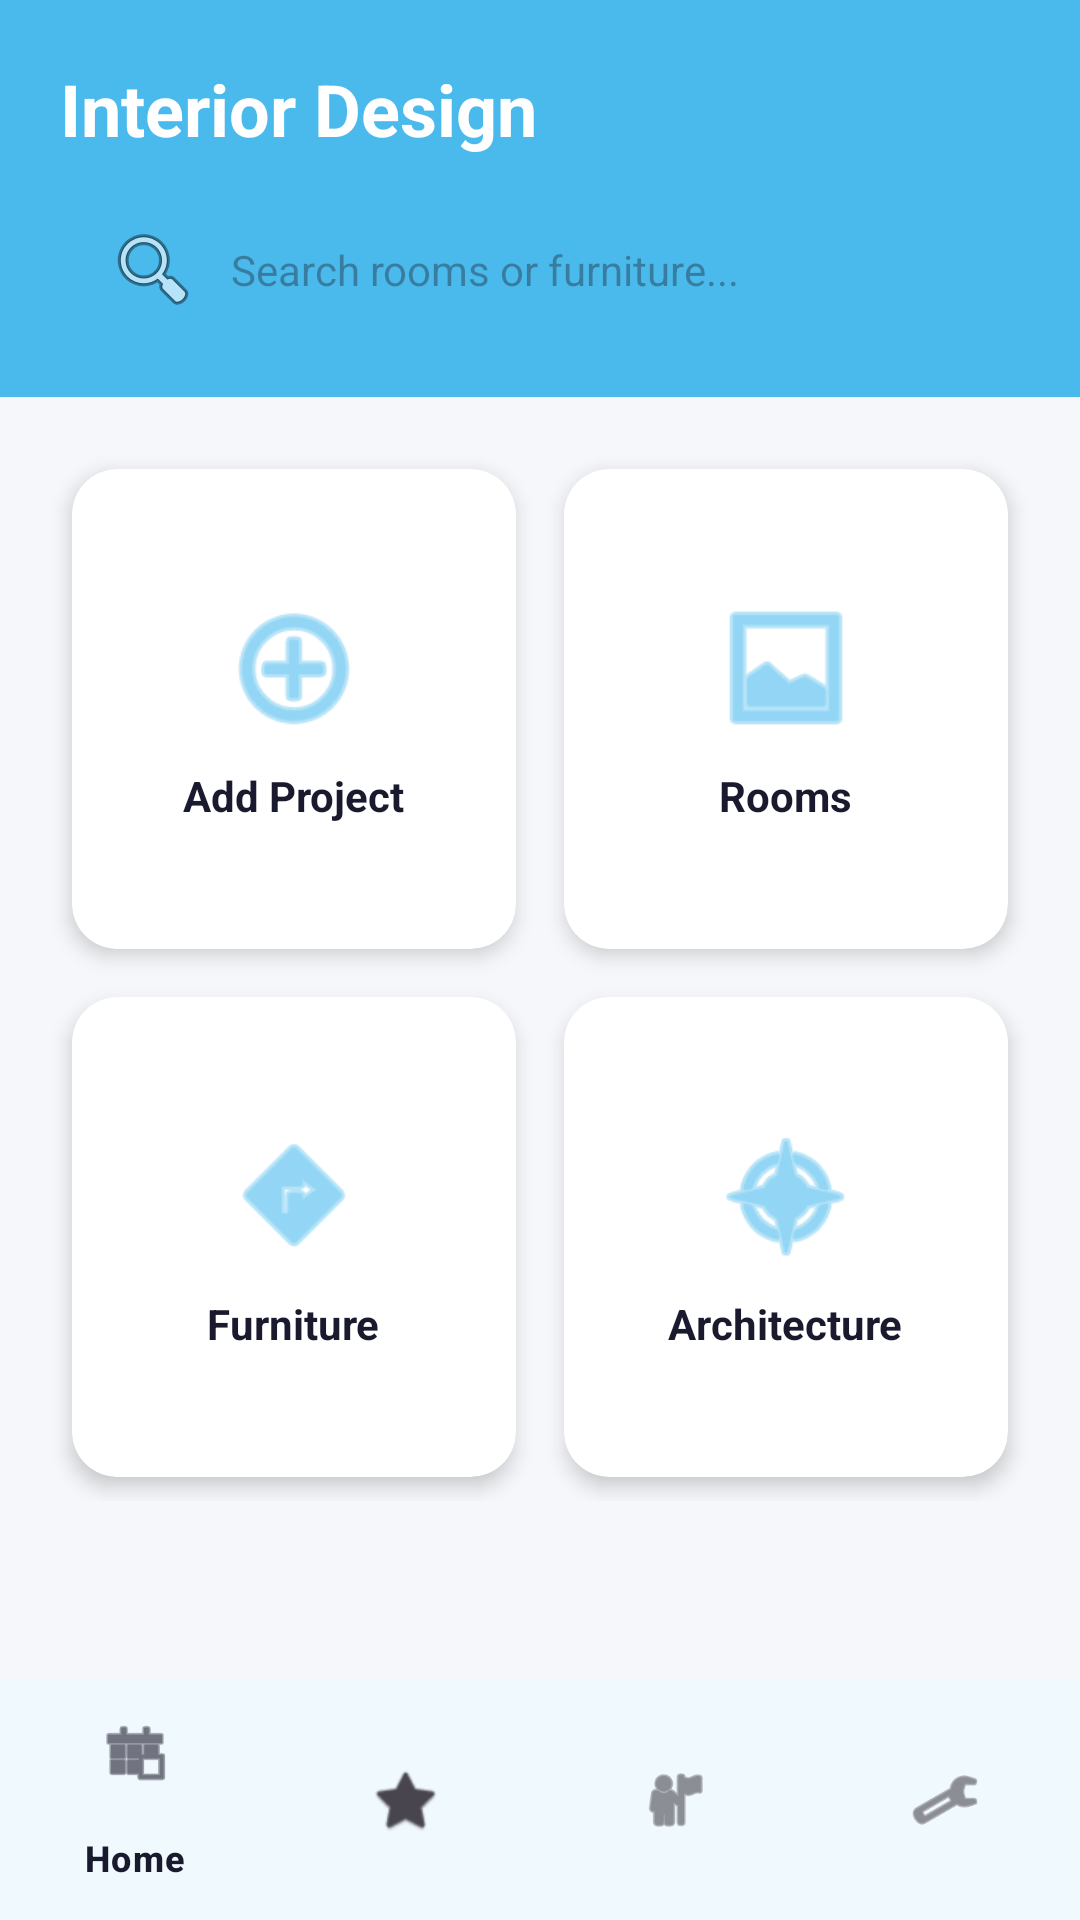

Where to tap for icons on this 1080px x 1920px app screen, as (x=x, y=y):
compass: (x=785, y=1197)
directions: (x=294, y=1195)
gallery: (x=786, y=668)
